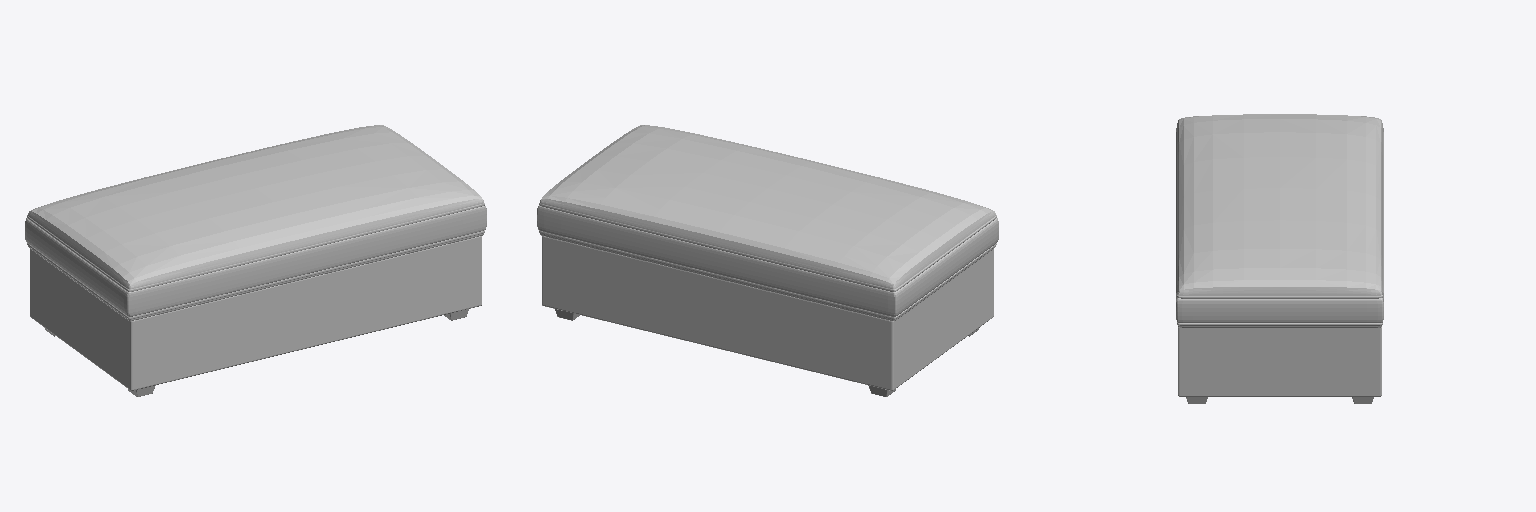
File: Ottoman.obj
The picture shows the model from 3 angles: view 1: azimuth 30°, elevation 25°; view 2: azimuth 150°, elevation 25°; view 3: azimuth 270°, elevation 25°; orthographic projection.
Parts seen in each view (by area): view 1: Ottoman; view 2: Ottoman; view 3: Ottoman.
Part boxes in pixels (bbox=[...]): Ottoman: bbox=[25, 125, 486, 396]; Ottoman: bbox=[537, 125, 998, 396]; Ottoman: bbox=[1176, 114, 1383, 403].
Bounding box in the file's own units: 4.05 × 1.46 × 2.03.